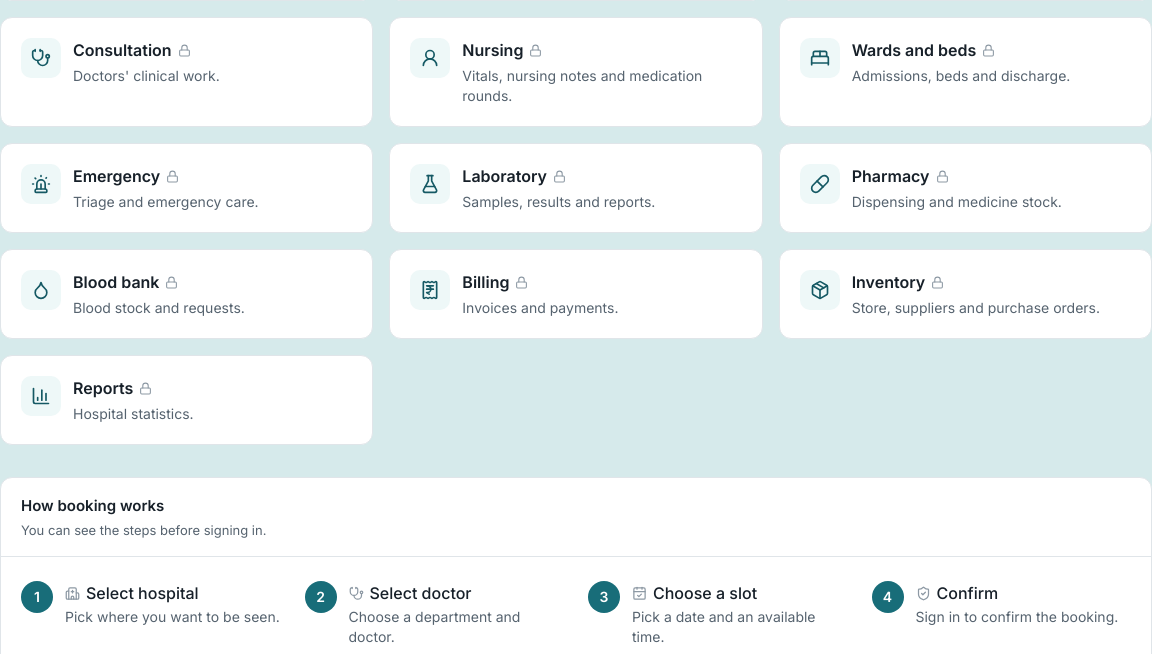
it: guest home › explains who may work in a department instead of opening it
(page scrolled)
What coordinates should you click on to do the following:
click the button "Billing Invoices and payments."
I would click on:
 (430, 290)
Its box is [389,249,763,339].
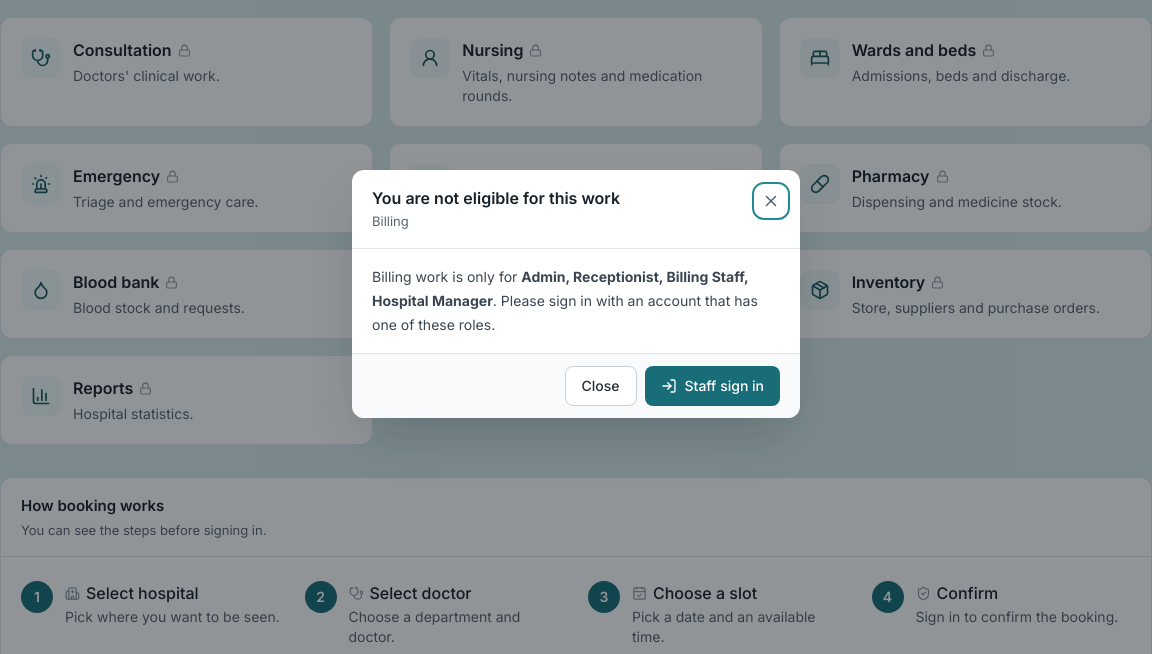
expect the dialog shows "You are not eligible for this work": met, box [372,188,620,208]
expect the dialog shows "Billing Staff": met, box [372,268,748,309]
